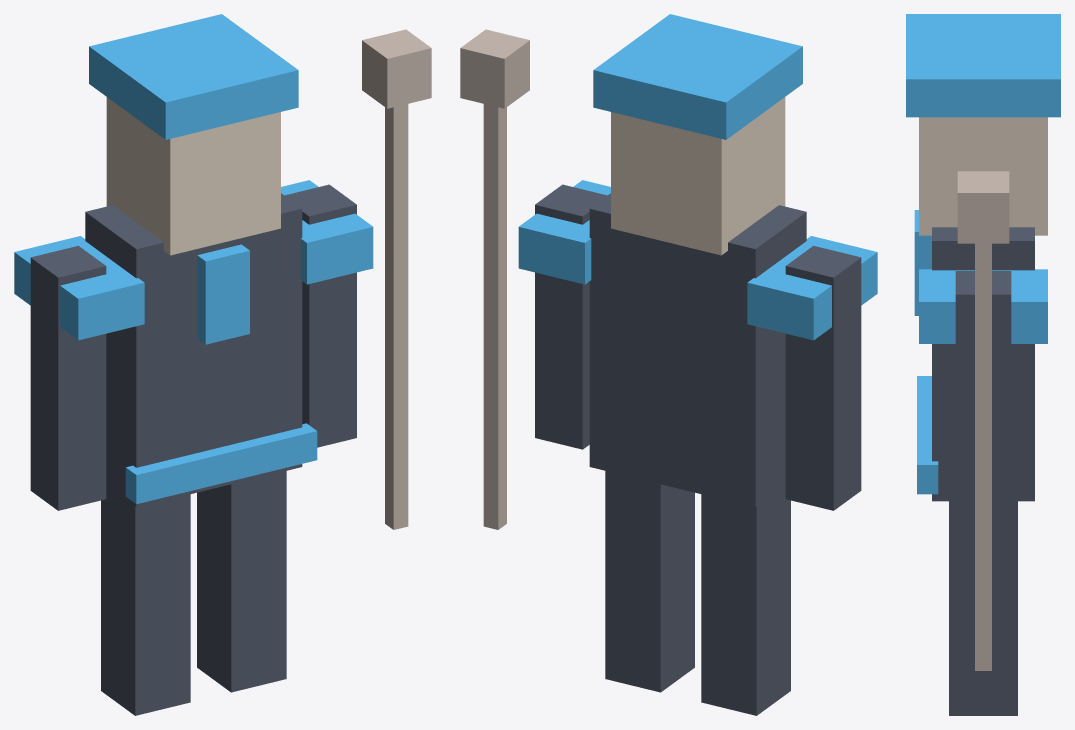
File: 02_keir_voxmere_watcher_under_missile.glb
3 renders of one model, left to right at view 1: azimuth 30°, elevation 25°; view 2: azimuth 150°, elevation 25°; view 3: azimuth 270°, elevation 25°, orthographic.
Parts seen in each view (by area): view 1: Keir Voxmere, Watcher under Missile; view 2: Keir Voxmere, Watcher under Missile; view 3: Keir Voxmere, Watcher under Missile.
Boxes of the visible parts, left/top/right/bottom form: Keir Voxmere, Watcher under Missile: left=14, top=14, right=431, bottom=715; Keir Voxmere, Watcher under Missile: left=460, top=14, right=877, bottom=715; Keir Voxmere, Watcher under Missile: left=906, top=14, right=1060, bottom=715.
Size of the model in its own units: 1.07 by 1.71 by 0.3793.
